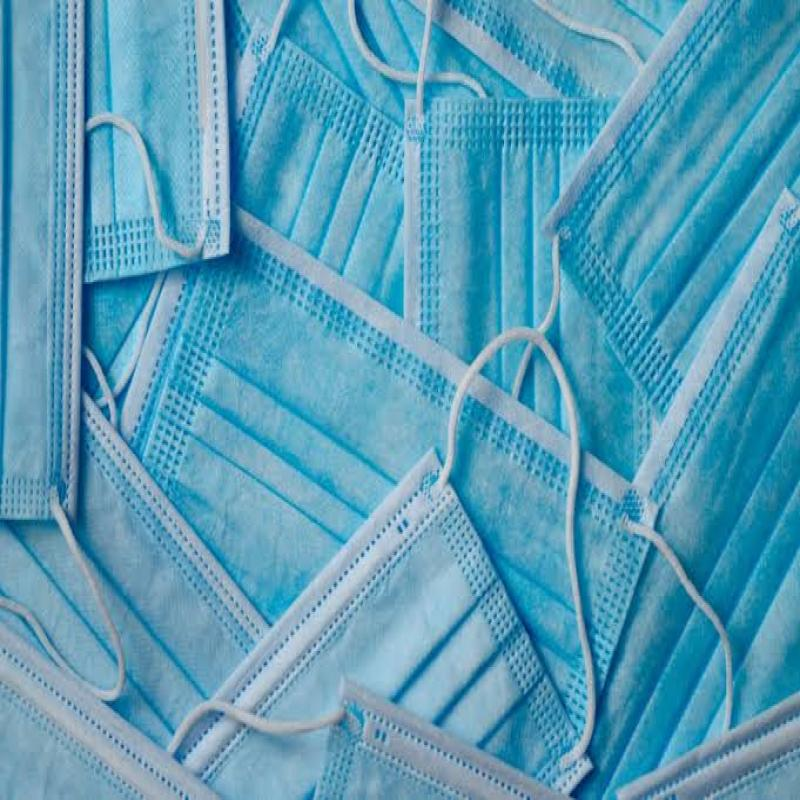facemask: (119, 211, 652, 722), (570, 190, 800, 799), (539, 0, 800, 422), (399, 90, 664, 482), (0, 0, 125, 706), (59, 390, 272, 756), (1, 608, 226, 800), (85, 0, 231, 284)
